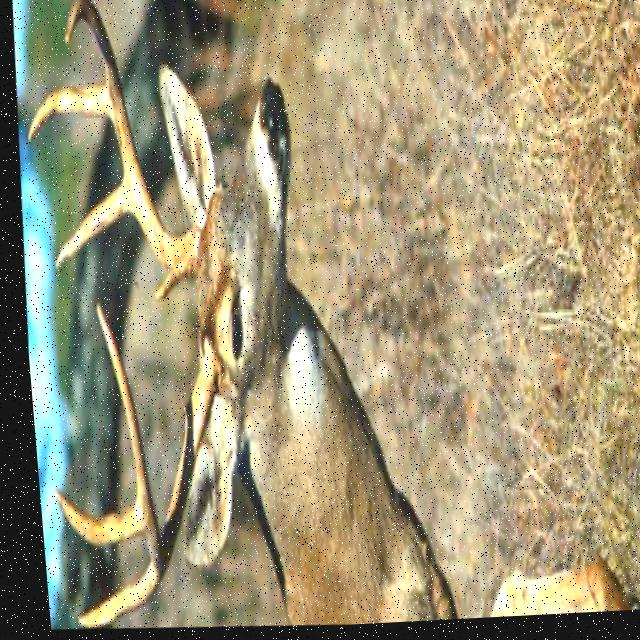L-F: (88, 299, 212, 583)
R-F: (62, 0, 195, 285)
R-G1: (148, 274, 173, 304)
R-G2: (48, 172, 131, 272), (64, 560, 150, 629)
R-G3: (45, 485, 134, 548), (23, 84, 110, 145)
